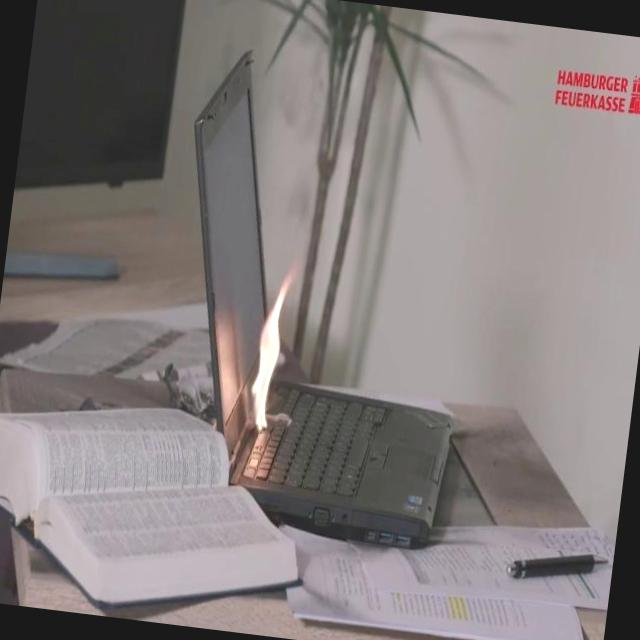fire: (226, 268, 312, 440)
